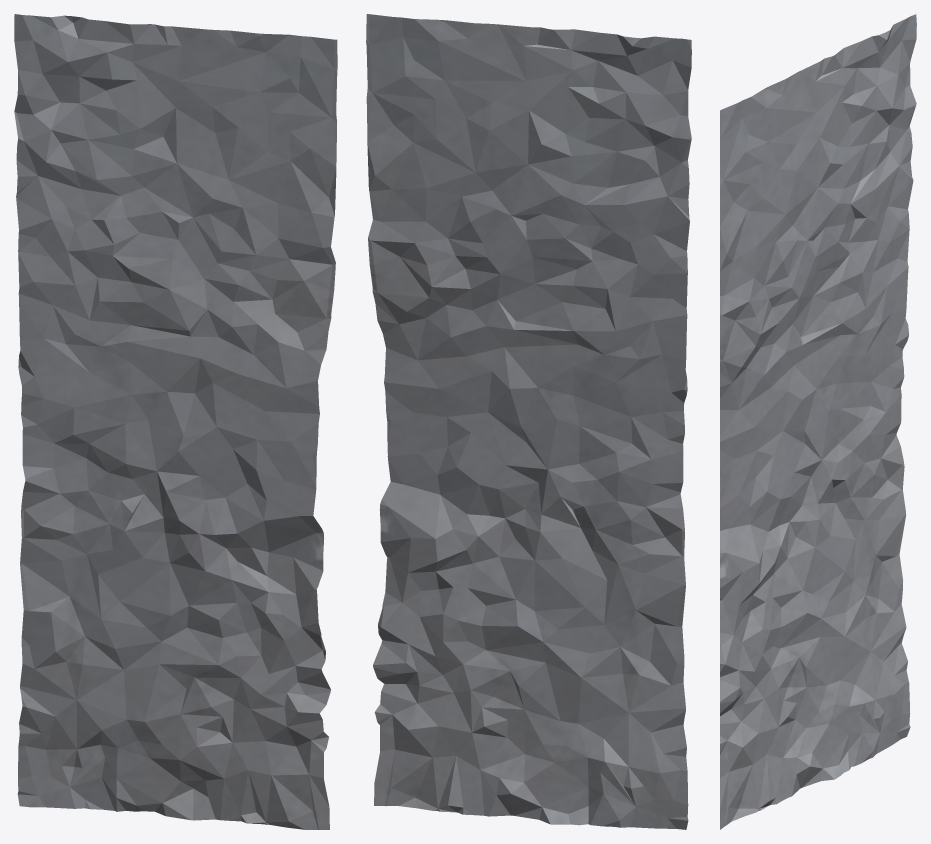
3 renders of one model, left to right at view 1: azimuth 30°, elevation 25°; view 2: azimuth 210°, elevation 25°; view 3: azimuth 270°, elevation 25°, orthographic. The views are drawn at different scales.
Bounding box in the file's own units: 0.2403 × 0.8374 × 0.2066.
Materials: 1 (1 with a texture image).
